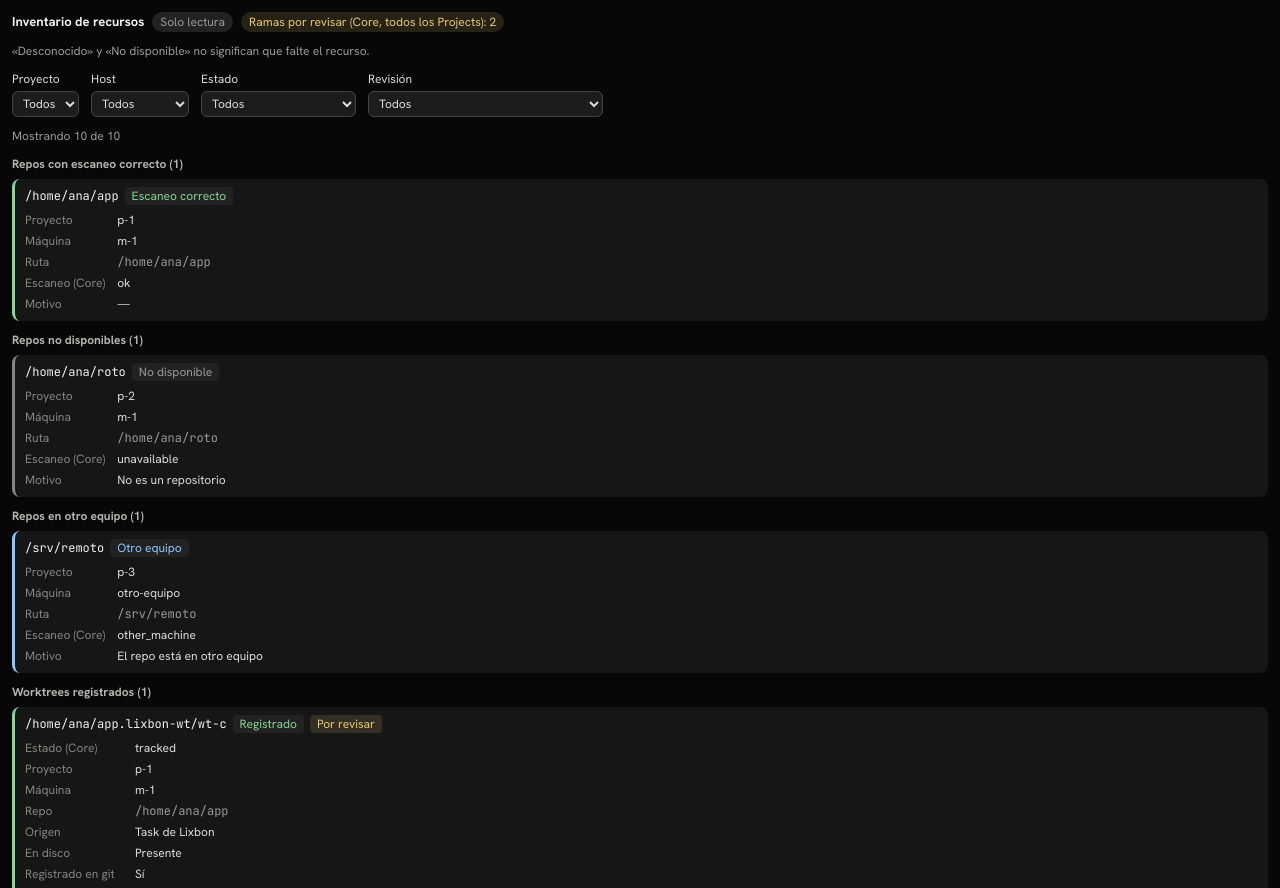
Scenario: ResourcesInventory · filtros › las secciones vacías no se pintan
Select "Externo" in the dropdown labelled "Estado" at (278, 104), box [201, 91, 356, 117]
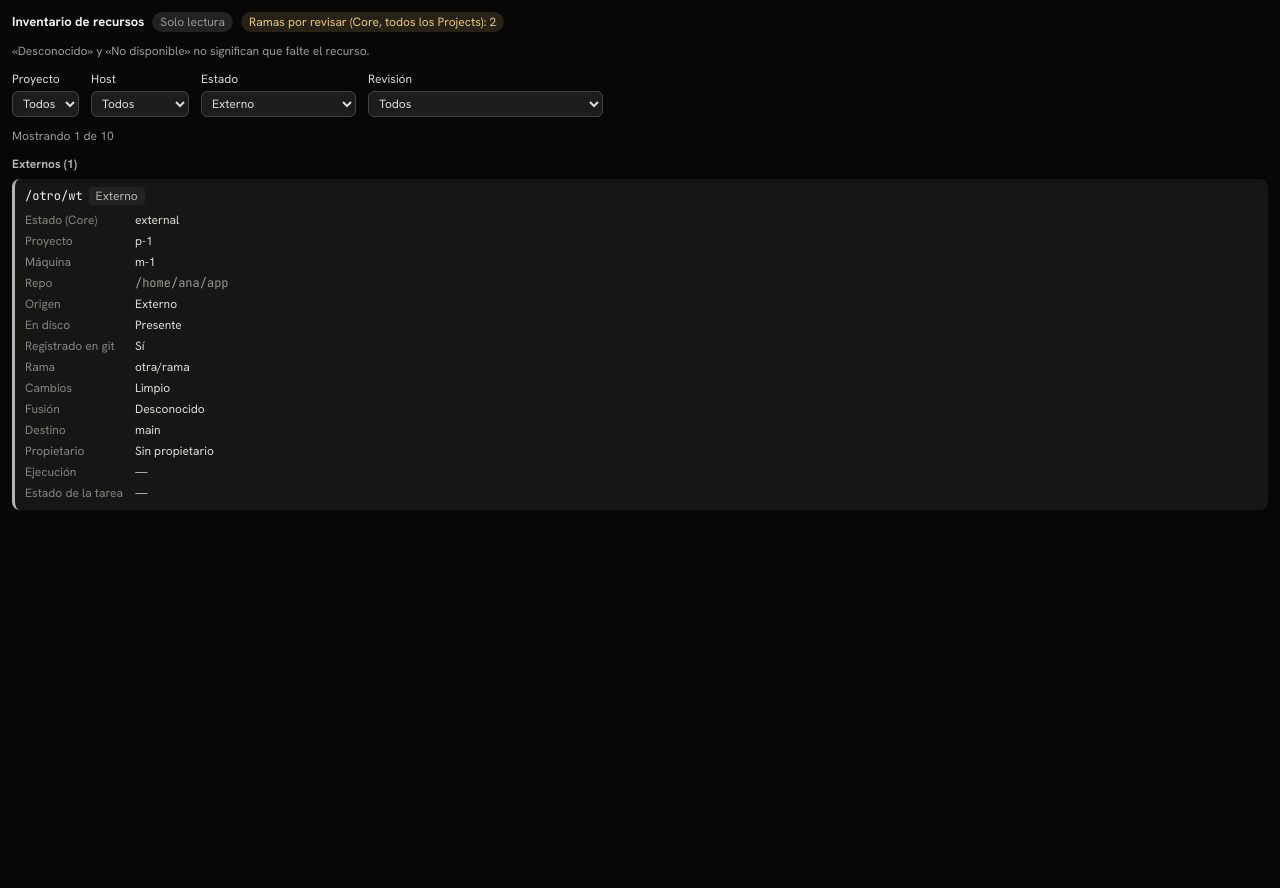
Check: the element with test id "resinv-section-external" is shown, box [12, 155, 1268, 510]
Check: the heading with test id "resinv-section-tracked" is gone
